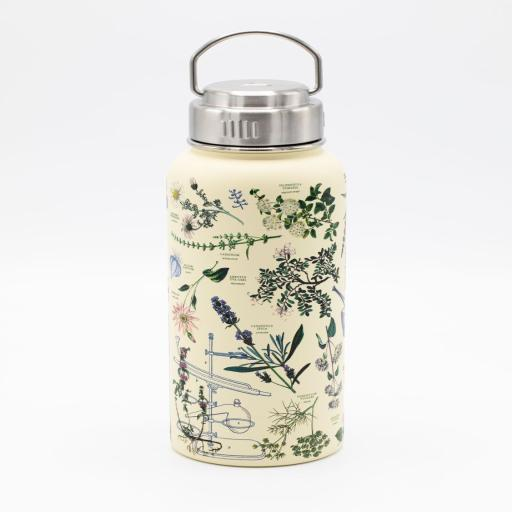bench: (166, 79, 347, 467)
